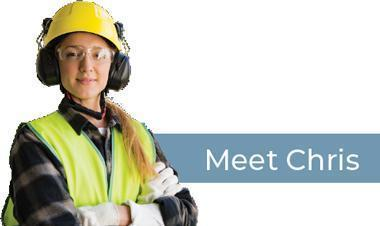helmet: (42, 1, 123, 53)
